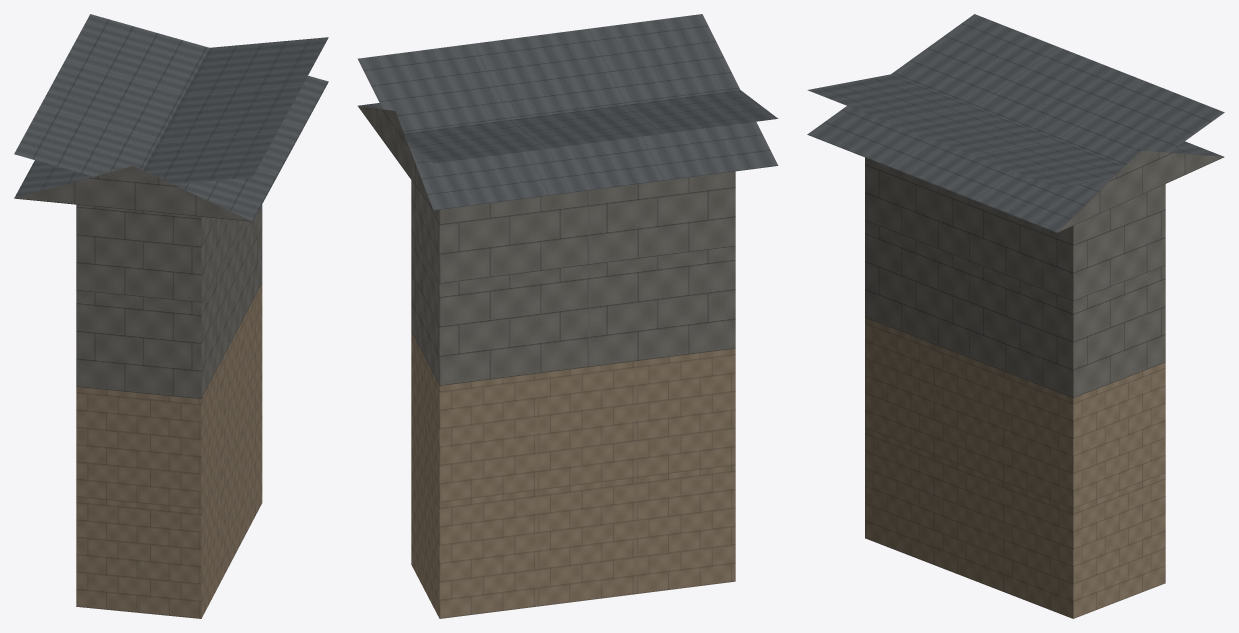
Rendered from bld_c22_-49_534.gltf.
3 views of the same model, side by side, from view 1: azimuth 30°, elevation 25°; view 2: azimuth 150°, elevation 25°; view 3: azimuth 270°, elevation 25° (orthographic). The views are drawn at different scales.
Visible parts, largest first — view 1: bld_c22_-49_534; view 2: bld_c22_-49_534; view 3: bld_c22_-49_534.
Part boxes in pixels (x1,y1,x2,y2): bld_c22_-49_534: [14, 14, 328, 618]; bld_c22_-49_534: [358, 14, 778, 618]; bld_c22_-49_534: [807, 14, 1224, 618].
Bounding box in the file's own units: 8.4 × 10.3 × 8.5.
Materials: 4 (4 with a texture image).
